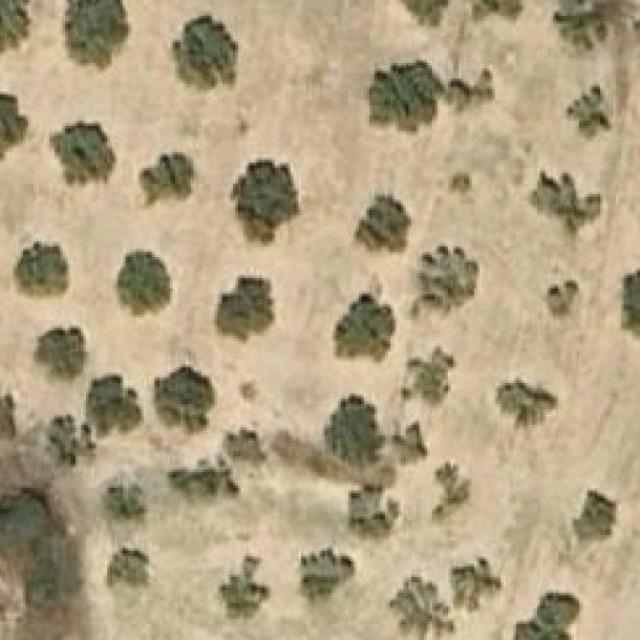Tree: (367, 61, 441, 137), (231, 160, 298, 240), (530, 168, 603, 241), (173, 16, 239, 92), (61, 0, 132, 70), (412, 244, 479, 318), (110, 246, 173, 318), (325, 393, 383, 470), (388, 575, 456, 640), (50, 119, 116, 184), (214, 276, 275, 344), (334, 294, 396, 360), (141, 152, 212, 208), (154, 368, 215, 433), (343, 480, 404, 542), (217, 553, 270, 624), (495, 381, 558, 438), (401, 346, 462, 404), (86, 374, 142, 436), (357, 194, 412, 257), (451, 553, 504, 614), (514, 593, 582, 640), (301, 546, 354, 606), (34, 325, 86, 386), (13, 241, 68, 297), (447, 70, 504, 119), (385, 416, 438, 466), (49, 414, 96, 467), (167, 470, 238, 505), (429, 462, 469, 524), (572, 491, 619, 543), (0, 87, 31, 163), (555, 0, 602, 49), (225, 420, 268, 464), (105, 478, 147, 522), (107, 548, 149, 588), (0, 0, 31, 52), (399, 0, 454, 26), (574, 92, 608, 134), (621, 267, 640, 338), (548, 281, 579, 318), (443, 168, 478, 197), (467, 0, 512, 21), (0, 388, 15, 441), (633, 10, 640, 50)
